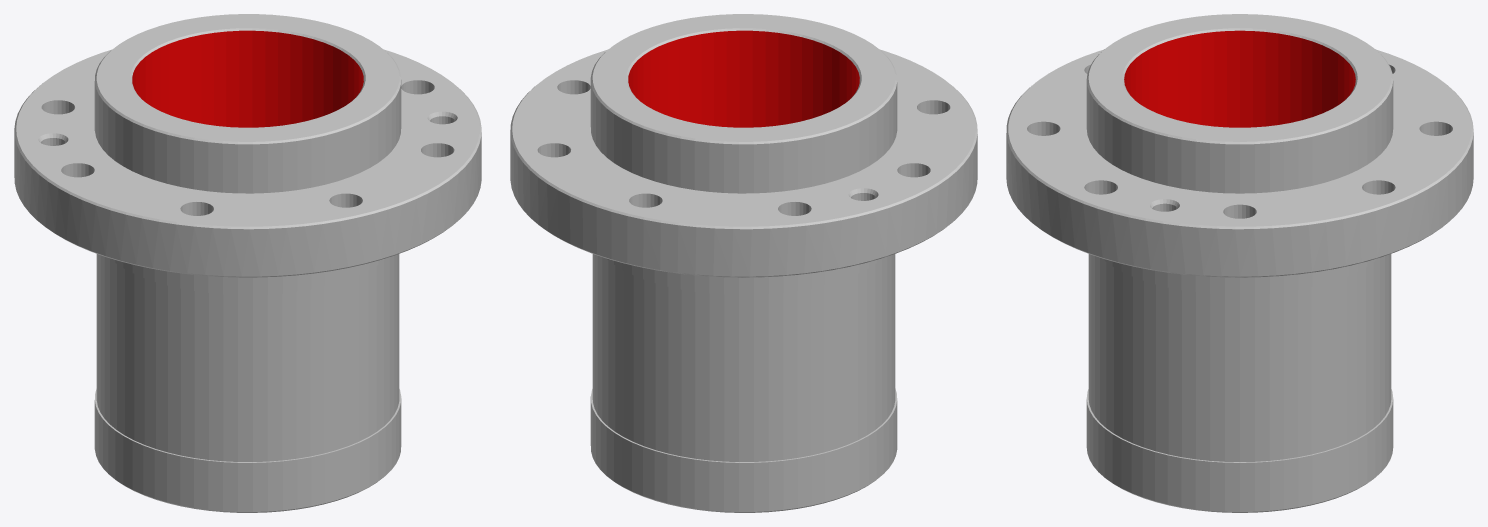
The model's file is 12_stp_3_4.obj.
The picture shows the model from 3 angles, left to right: view 1: azimuth 30°, elevation 25°; view 2: azimuth 150°, elevation 25°; view 3: azimuth 270°, elevation 25°; orthographic projection.
Parts seen in each view (by area): view 1: Object1; view 2: Object1; view 3: Object1.
Part boxes in pixels (<box>): Object1: <box>14,14,481,512</box>; Object1: <box>510,14,977,512</box>; Object1: <box>1006,14,1473,512</box>.
Bounding box in the file's own units: 125 × 110 × 125.
